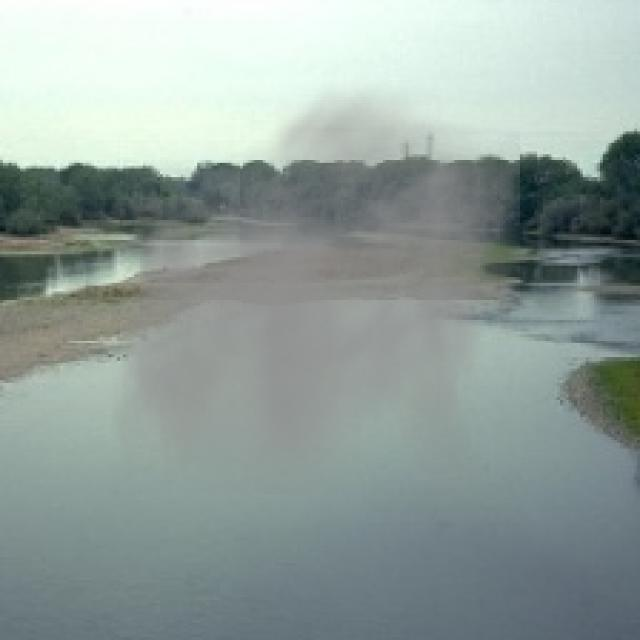smoke: (111, 72, 520, 494)
